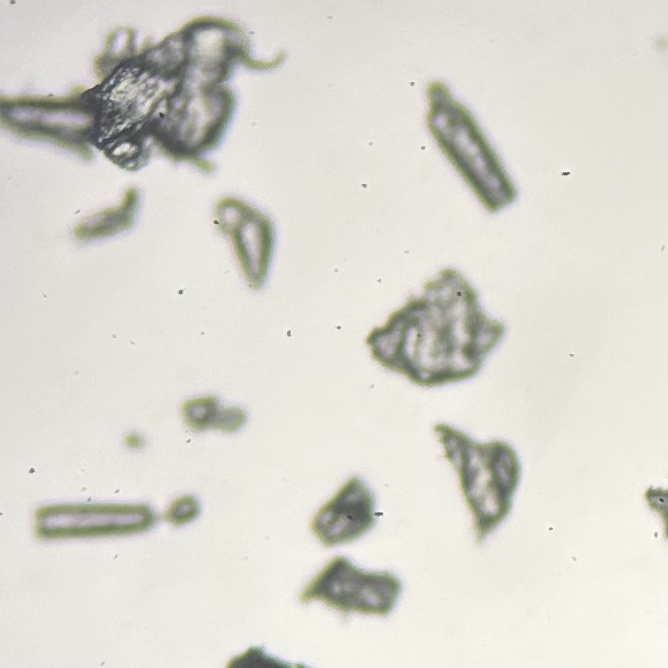microplastic: (71, 14, 292, 179), (360, 263, 511, 393), (416, 76, 519, 219), (429, 421, 526, 552), (298, 551, 405, 622), (212, 193, 282, 301), (1, 95, 107, 165), (307, 471, 380, 554), (26, 498, 159, 540), (69, 183, 147, 246), (176, 391, 250, 440), (221, 639, 316, 668), (640, 482, 668, 546), (164, 493, 202, 527), (120, 428, 153, 452)
